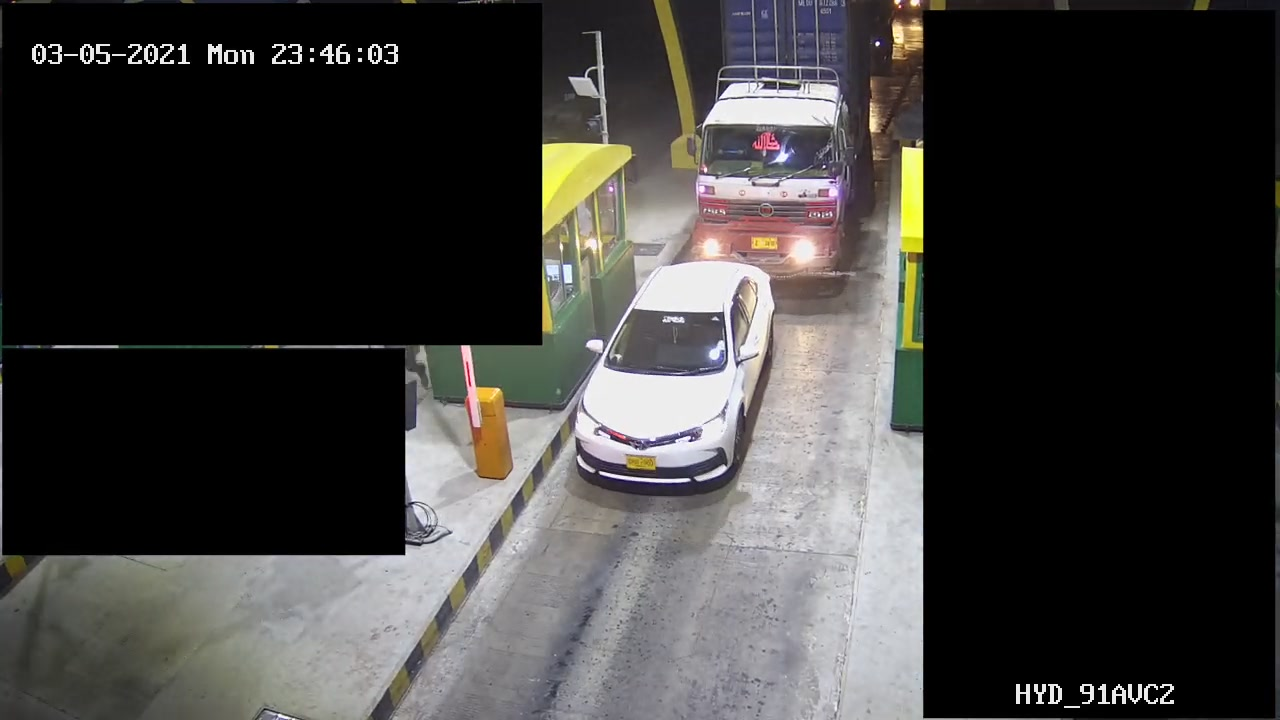F1: (566, 259, 776, 500)
